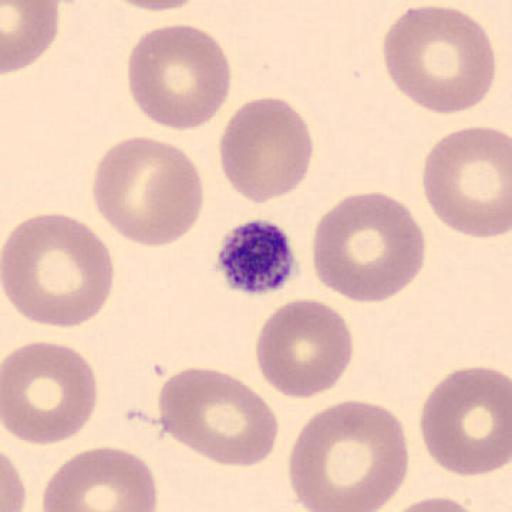Platelet: (212, 216, 300, 297)
RBC: (289, 398, 411, 512), (0, 212, 115, 330), (310, 190, 427, 305), (90, 135, 206, 249), (382, 2, 496, 116), (157, 366, 281, 468), (125, 22, 232, 132), (418, 364, 512, 478), (421, 124, 512, 241), (218, 95, 314, 205), (254, 298, 355, 400), (2, 340, 98, 447), (42, 444, 159, 512), (0, 0, 61, 76), (374, 495, 484, 512), (0, 450, 28, 512), (109, 1, 202, 12)
